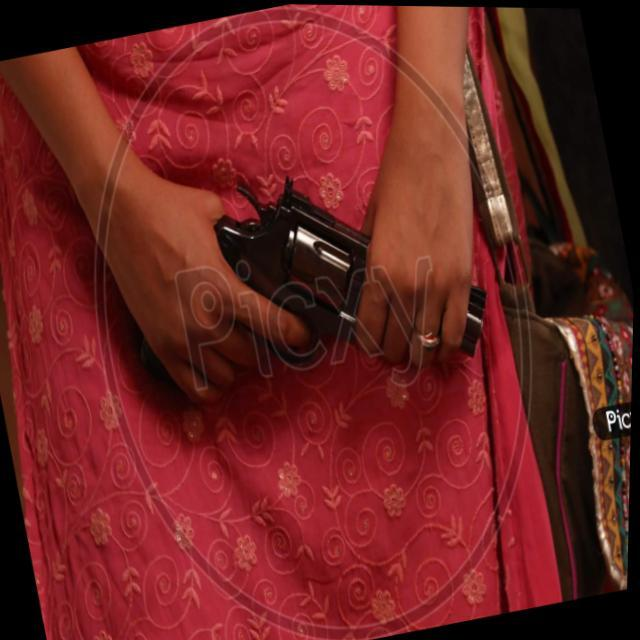weapon: (100, 120, 514, 443)
